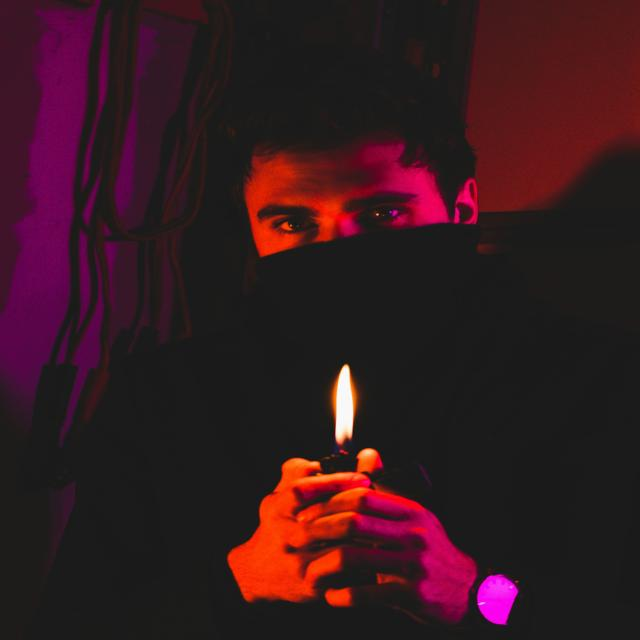fire: (331, 364, 360, 446)
